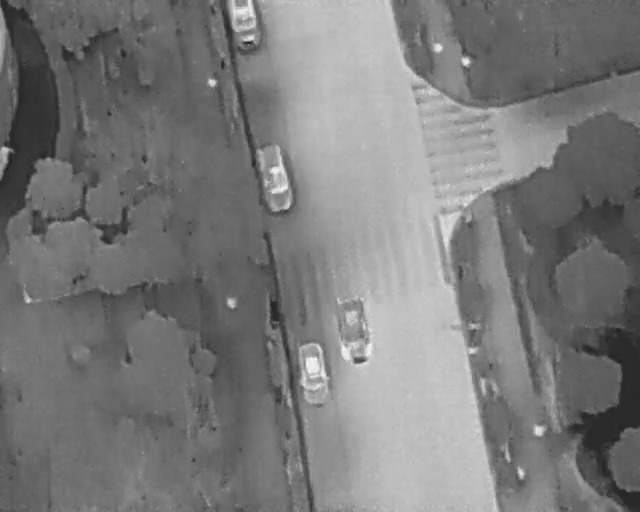Car: (325, 291, 380, 368), (253, 139, 296, 215), (295, 340, 331, 408), (227, 0, 260, 53)
